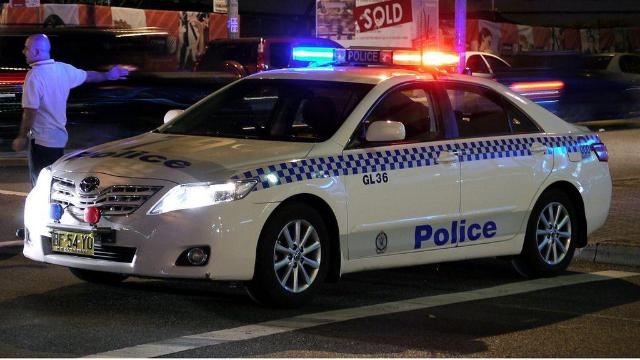police_car: (27, 43, 624, 298)
